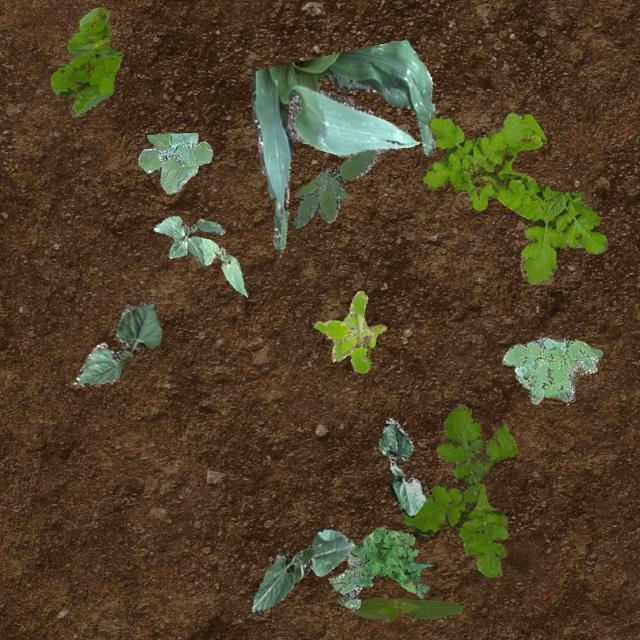crop: (250, 40, 434, 248), (252, 528, 352, 614), (72, 300, 160, 386), (378, 416, 424, 516), (138, 132, 212, 192), (152, 215, 224, 262), (336, 596, 462, 622), (198, 236, 246, 296)
weed: (422, 112, 606, 284), (402, 402, 516, 576), (48, 6, 120, 116), (293, 148, 377, 228), (502, 336, 602, 402), (312, 289, 384, 372), (348, 526, 430, 596), (328, 552, 363, 608)
